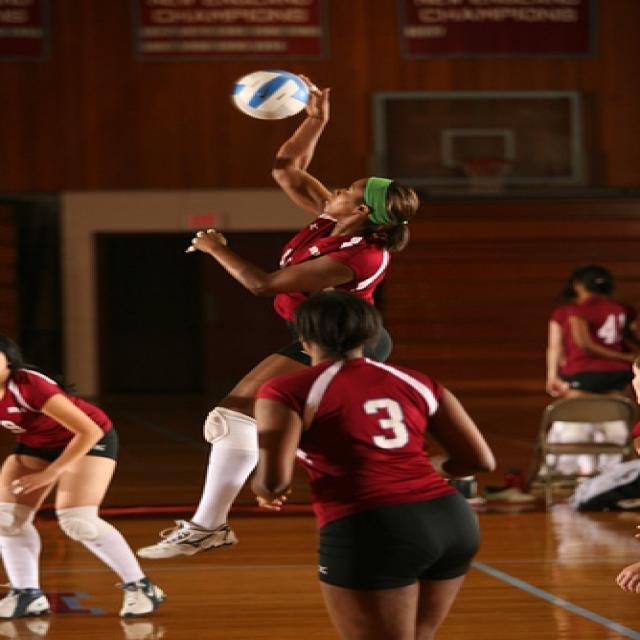volleyball: (230, 69, 310, 120)
